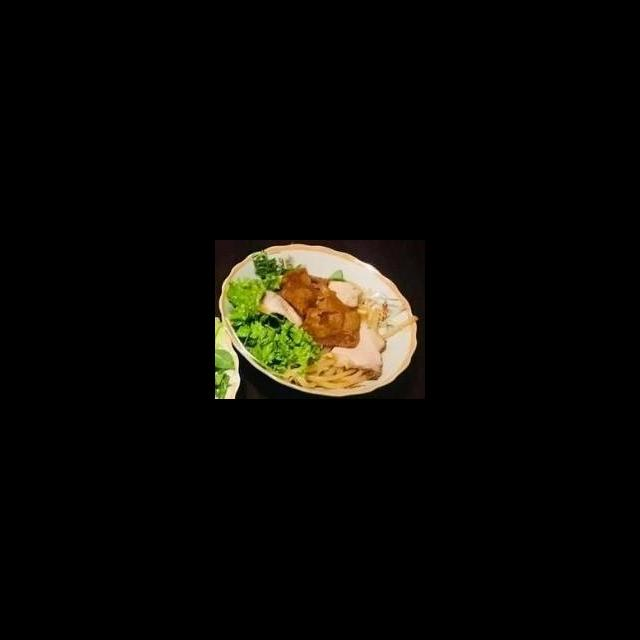banh da: (298, 284, 363, 350), (275, 266, 322, 320)
mi: (272, 343, 369, 392), (354, 290, 390, 334)
mi quang: (223, 252, 417, 399)
thit heo: (327, 320, 389, 384), (255, 288, 307, 330), (325, 278, 362, 310)
